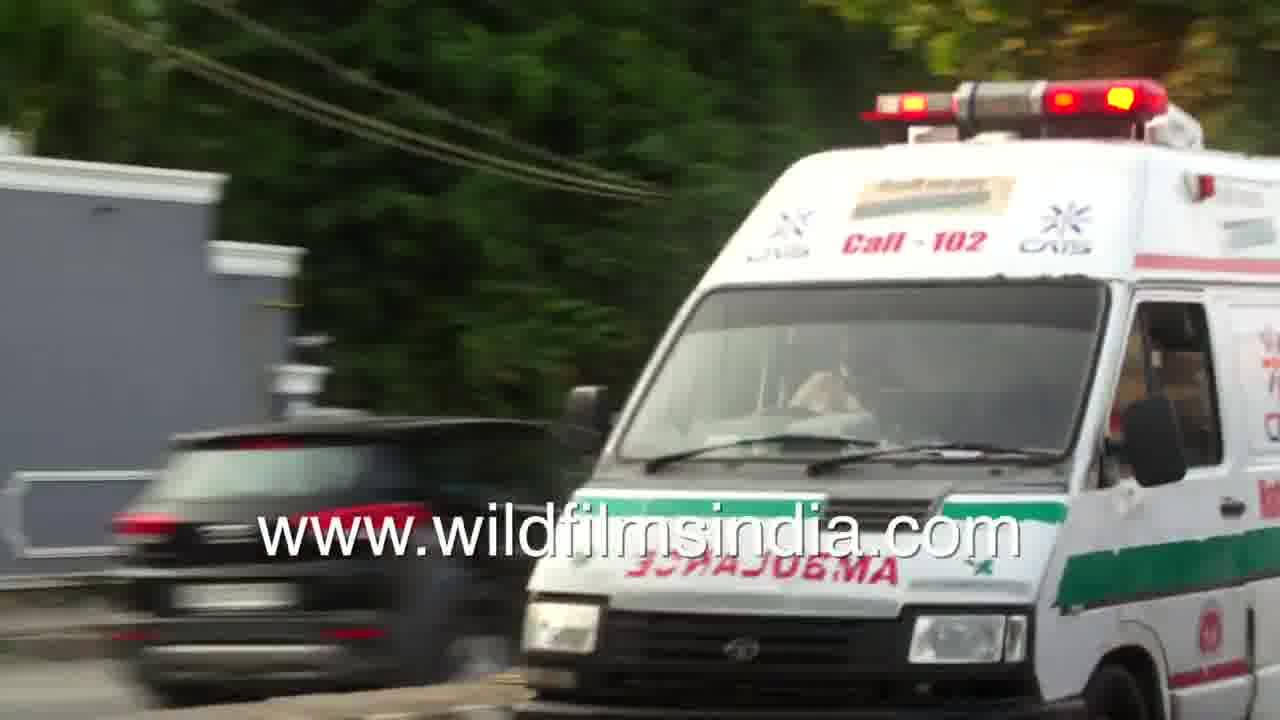AMBULANCE: (547, 68, 1269, 506)
